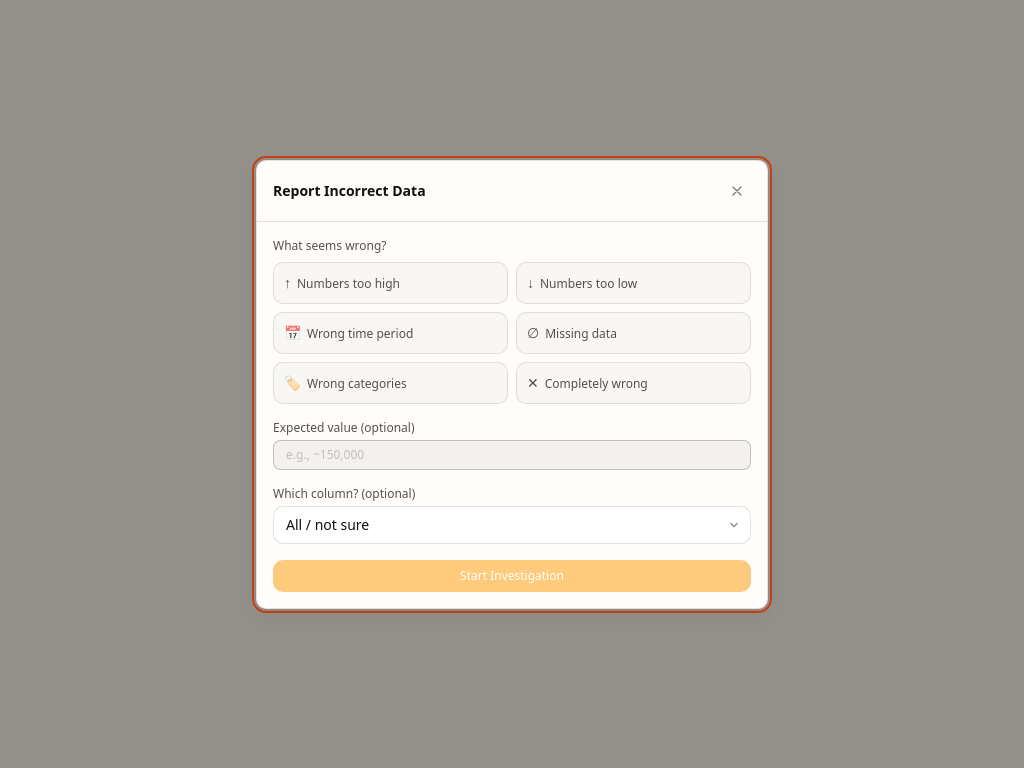
Test: WrongDataModal › shows the cause and both results once the investigation finishes
Click the button "↓Numbers too low". click: [634, 282]
box: [516, 262, 751, 304]
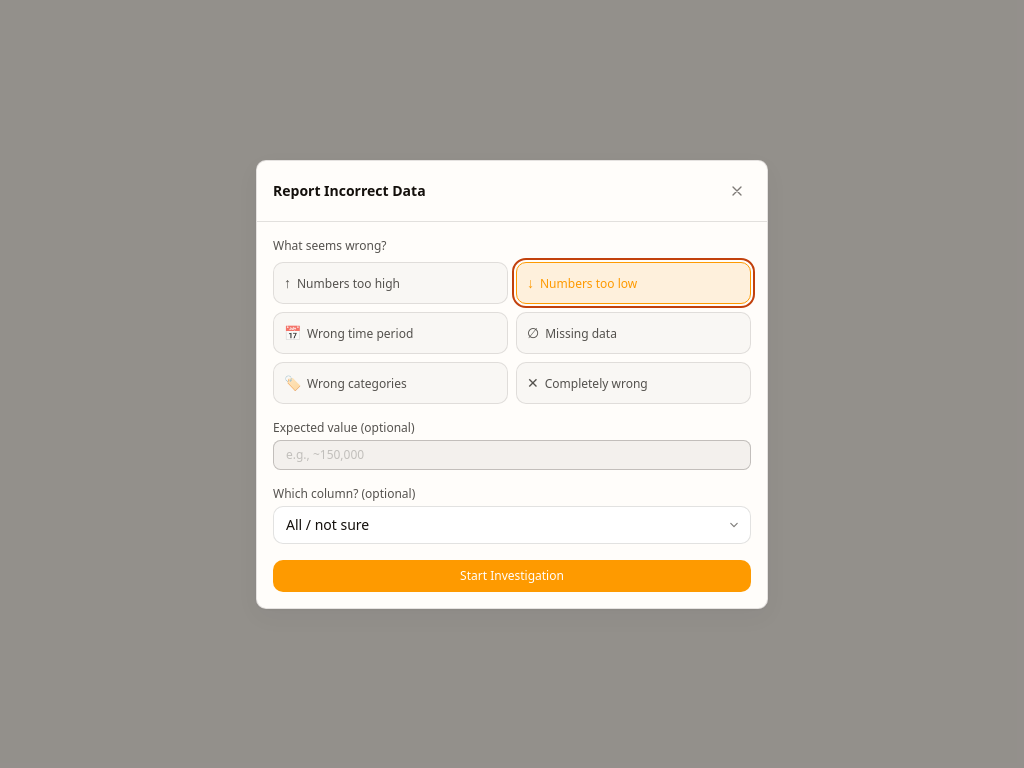
Click the button "Start Investigation". click: [512, 576]
box: [273, 560, 751, 592]
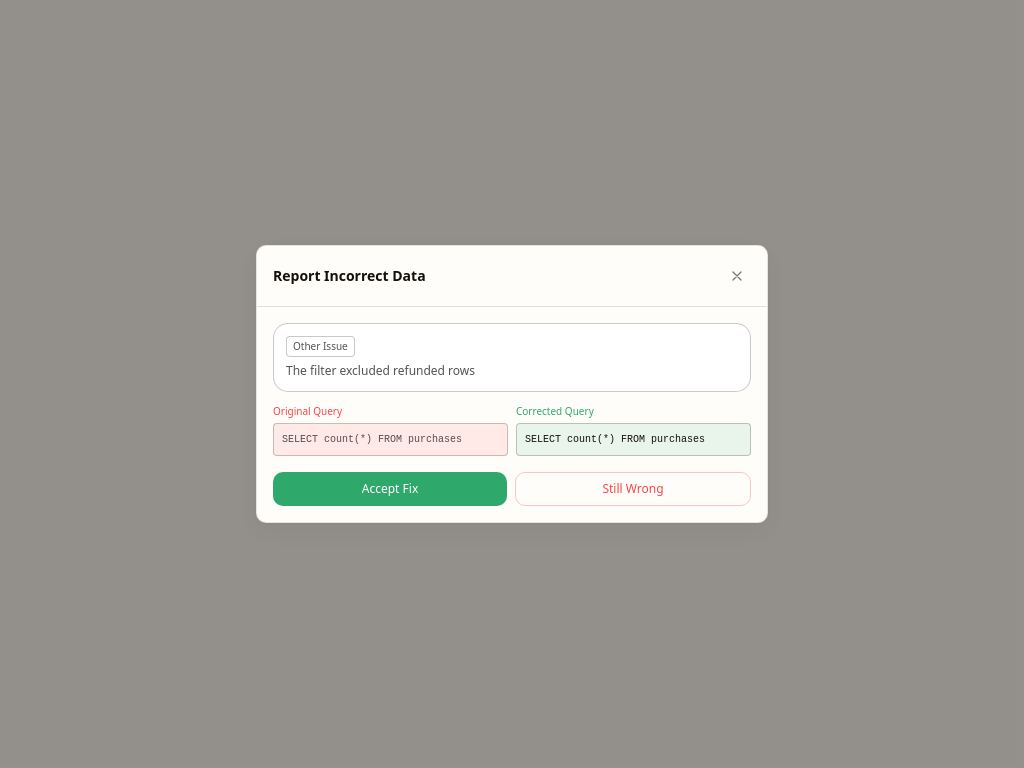
Result: the text "The filter excluded refunded rows" is shown at [286, 362, 475, 379]
